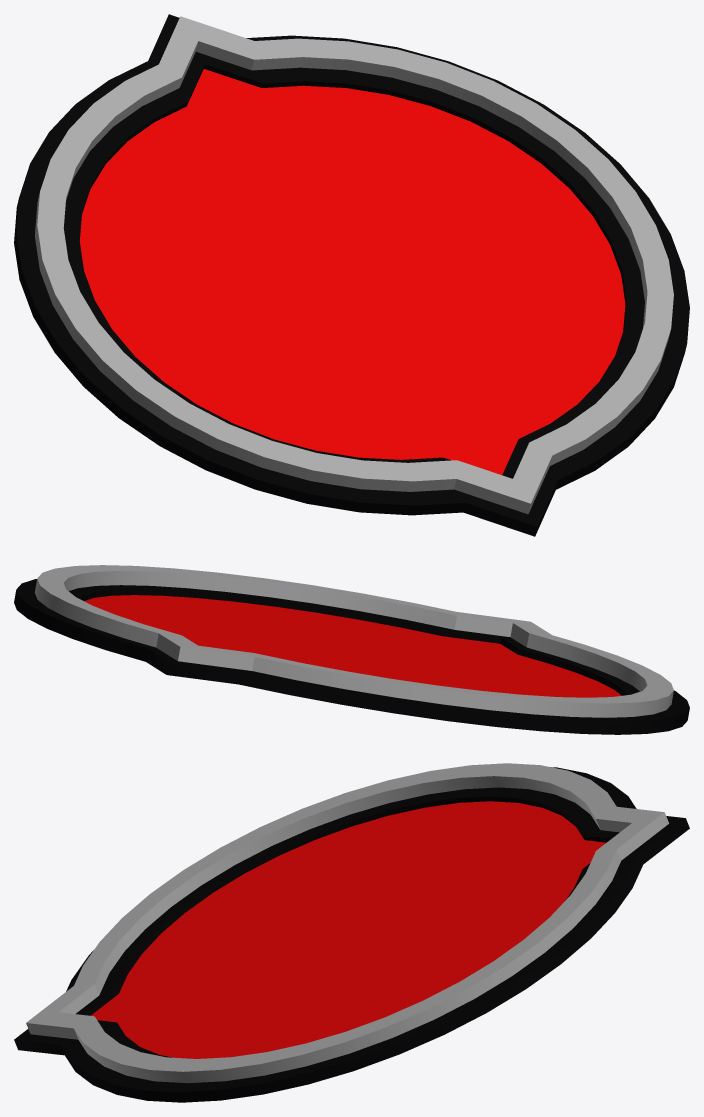
Rendered from HighlightTowerChoice.fbx.
3 renders of one model, top to bottom at view 1: azimuth 30°, elevation 25°; view 2: azimuth 150°, elevation 25°; view 3: azimuth 270°, elevation 25°, orthographic. The views are drawn at different scales.
Visible parts, largest first — view 1: TowerChoiceIn, TowerChoice, TowerChoiceOutline; view 2: TowerChoice, TowerChoiceIn, TowerChoiceOutline; view 3: TowerChoiceIn, TowerChoice, TowerChoiceOutline.
Part boxes in pixels (x1,y1,x2,y2): TowerChoiceIn: (79, 69, 625, 474); TowerChoice: (35, 16, 673, 514); TowerChoiceOutline: (14, 14, 689, 536); TowerChoice: (35, 565, 673, 717); TowerChoiceIn: (84, 595, 621, 697); TowerChoiceOutline: (14, 579, 689, 734); TowerChoiceIn: (91, 801, 605, 1058); TowerChoice: (26, 763, 668, 1083); TowerChoiceOutline: (14, 767, 689, 1102).
Bounding box in the file's own units: 74.8 × 31.5 × 81.1.
